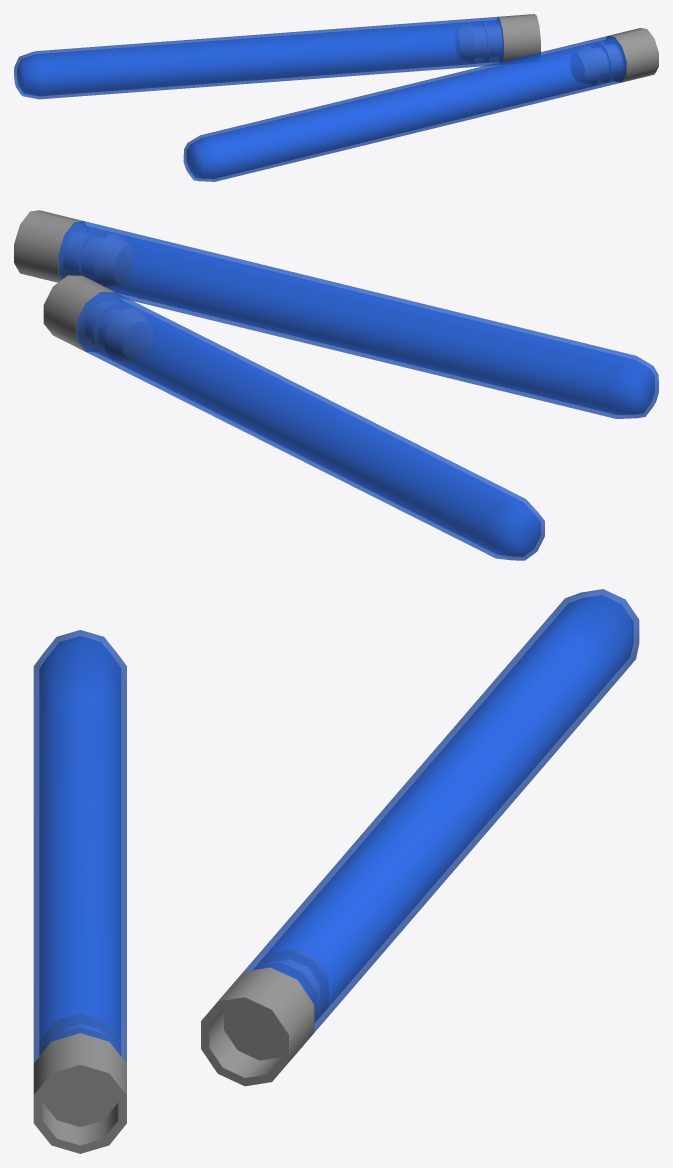
The model's file is SM_Layed_Test_Tube2_LOD0.FBX.
3 views of the same model, one above another, from view 1: azimuth 30°, elevation 25°; view 2: azimuth 150°, elevation 25°; view 3: azimuth 270°, elevation 25° (orthographic). The views are drawn at different scales.
Parts seen in each view (by area): view 1: SM_Empty_Laying_Test_Tube02; view 2: SM_Empty_Laying_Test_Tube02; view 3: SM_Empty_Laying_Test_Tube02.
Part boxes in pixels (<box>): SM_Empty_Laying_Test_Tube02: <box>14,14,658,181</box>; SM_Empty_Laying_Test_Tube02: <box>14,210,658,560</box>; SM_Empty_Laying_Test_Tube02: <box>33,589,639,1153</box>.
Size of the model in its own units: 0.1889 by 0.016 by 0.0985.
